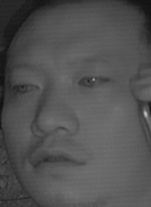eye: (77, 70, 110, 92), (13, 76, 41, 96)
mouth: (22, 142, 84, 179)
